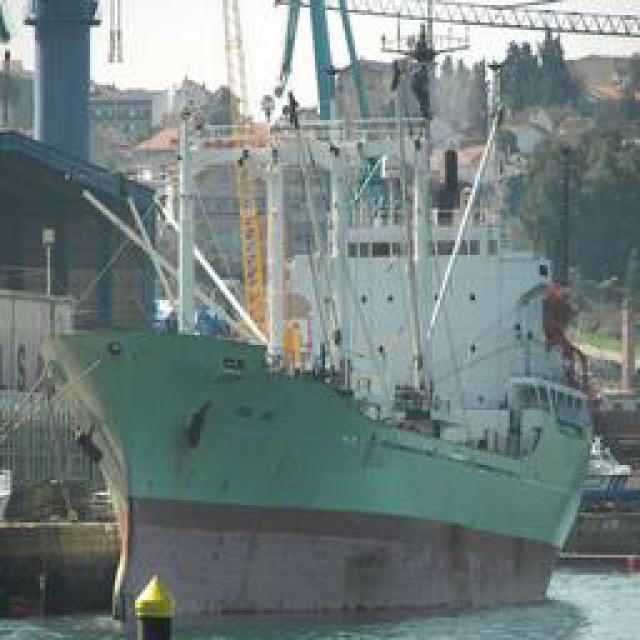Ship: (17, 4, 617, 619)
